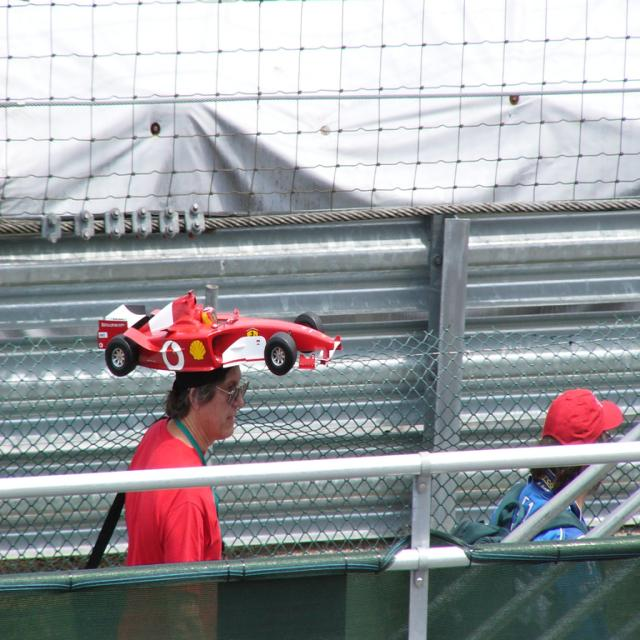car: (95, 289, 343, 379)
